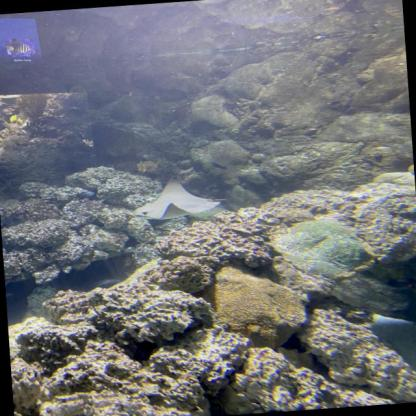stingray: (131, 172, 222, 220)
